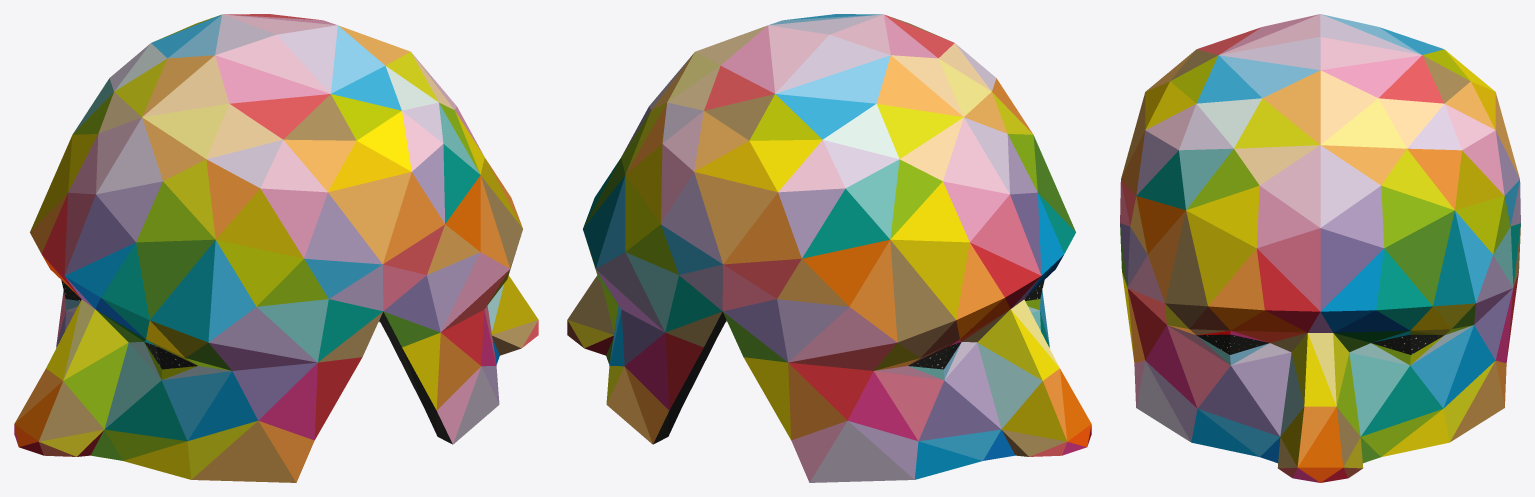
File: CABEZA_LAGO.fbx
3 renders of one model, left to right at view 1: azimuth 30°, elevation 25°; view 2: azimuth 150°, elevation 25°; view 3: azimuth 270°, elevation 25°, orthographic. The views are drawn at different scales.
Parts seen in each view (by area): view 1: CABEZA_LAGO; view 2: CABEZA_LAGO; view 3: CABEZA_LAGO.
Part boxes in pixels (x1,y1,x2,y2): CABEZA_LAGO: [14, 14, 538, 482]; CABEZA_LAGO: [567, 14, 1091, 482]; CABEZA_LAGO: [1120, 14, 1520, 482].
Bounding box in the file's own units: 354 × 235 × 255.
1 material, 1 textured.
